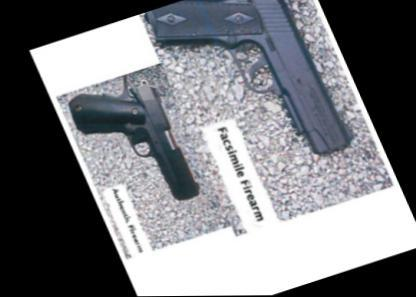pistol: (138, 0, 364, 186), (52, 67, 210, 224)
